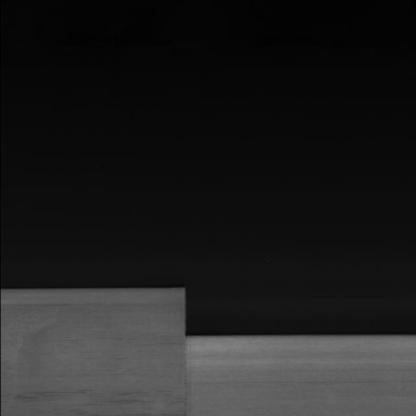welding_line: (170, 275, 204, 414)
